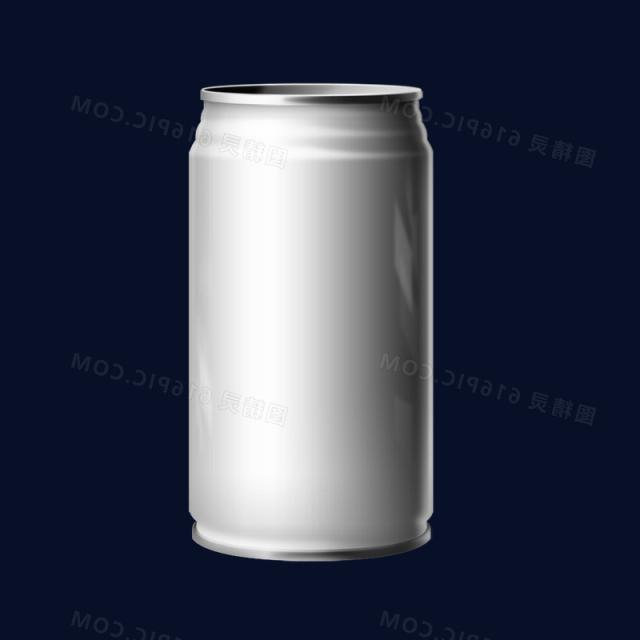metal: (189, 84, 432, 559)
